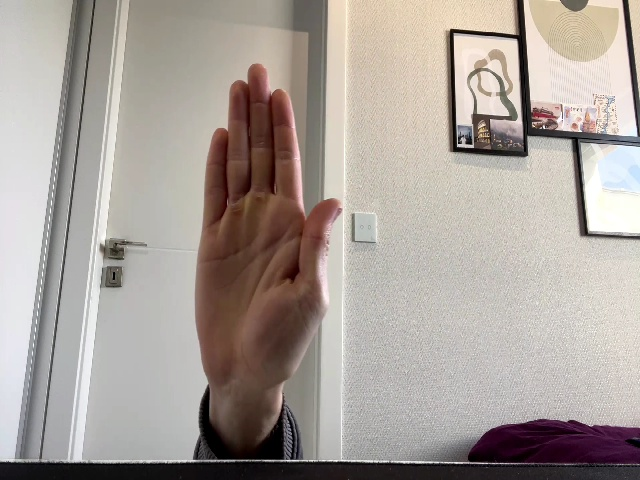B: (195, 63, 342, 384)
